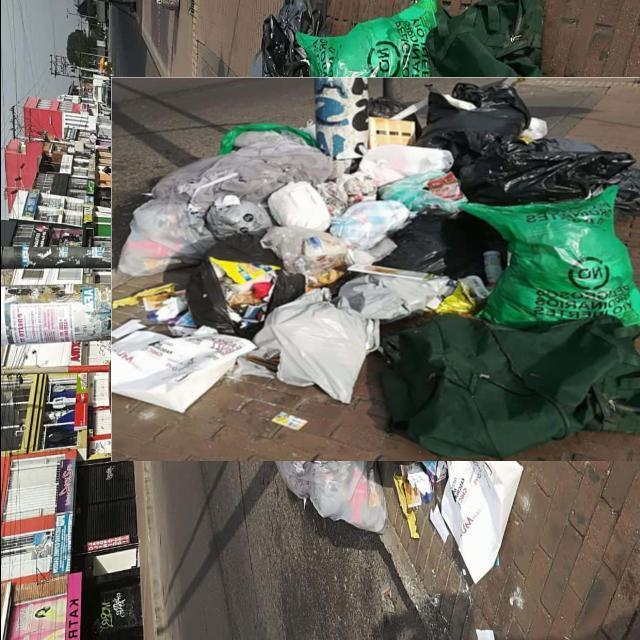Trashbag: (464, 131, 614, 207), (419, 75, 528, 150), (186, 250, 296, 322), (366, 95, 410, 122)
